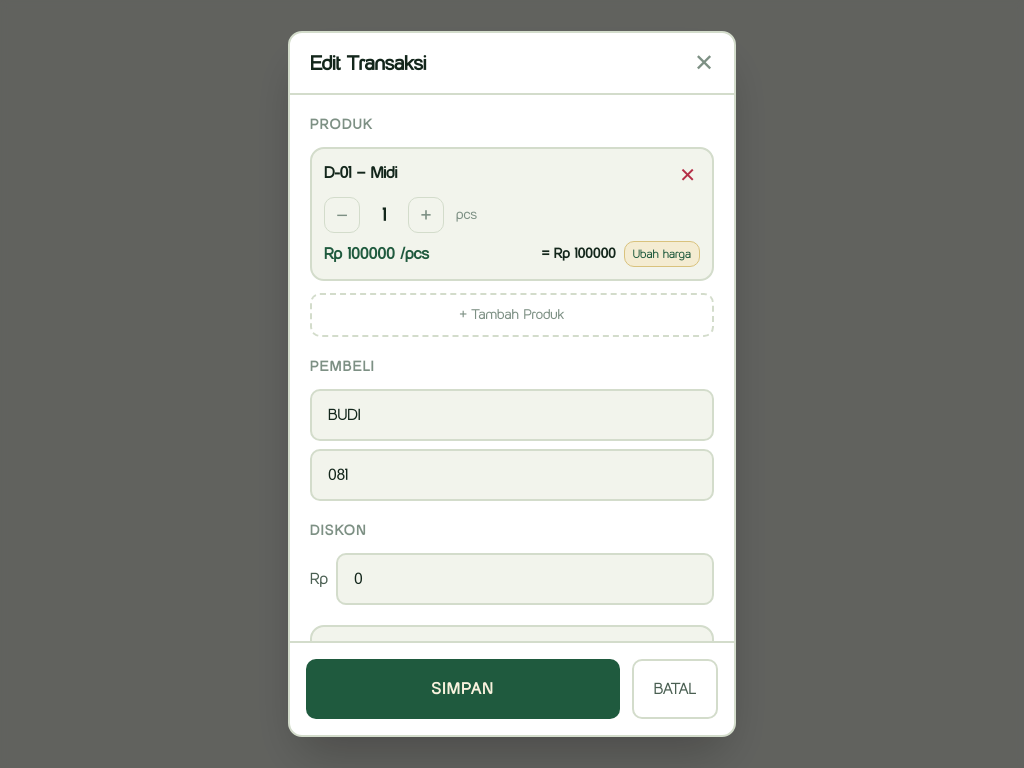
it: EditSaleModal › cancels the confirm dialog without removing anything when Batal clicked
Click the button "−" at (342, 215), box [324,197,360,233]
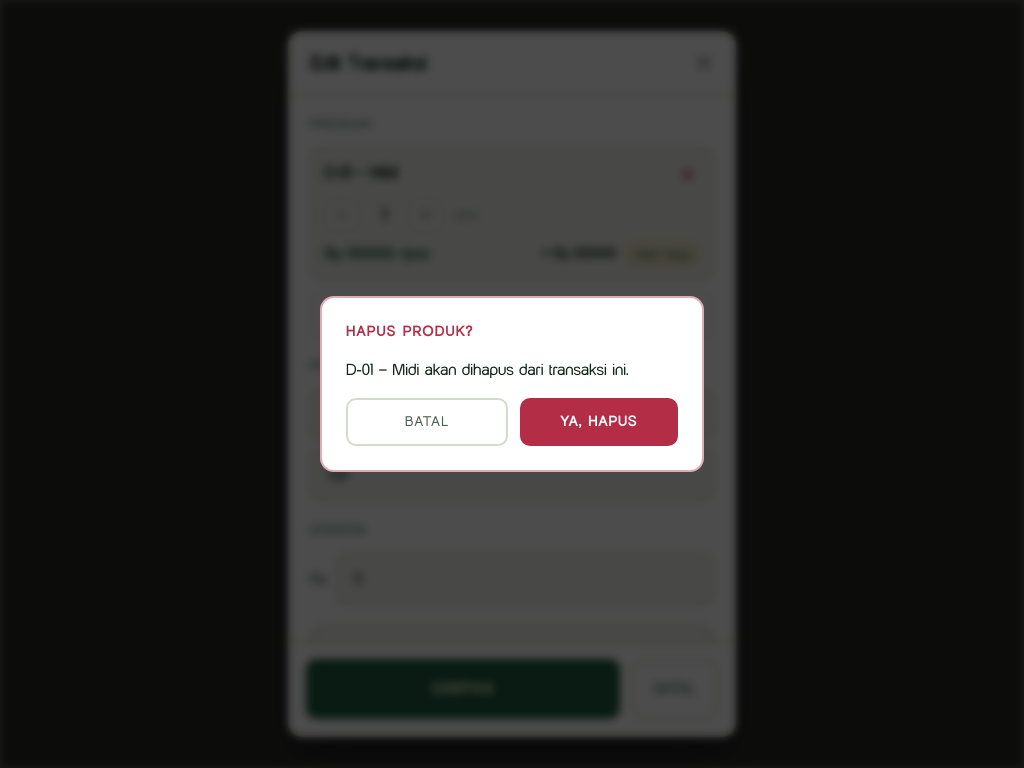
Expected: the text "Hapus Produk?" is shown, [346,323,474,340]
Click the button "Batal" at (427, 422), box [346,398,508,446]
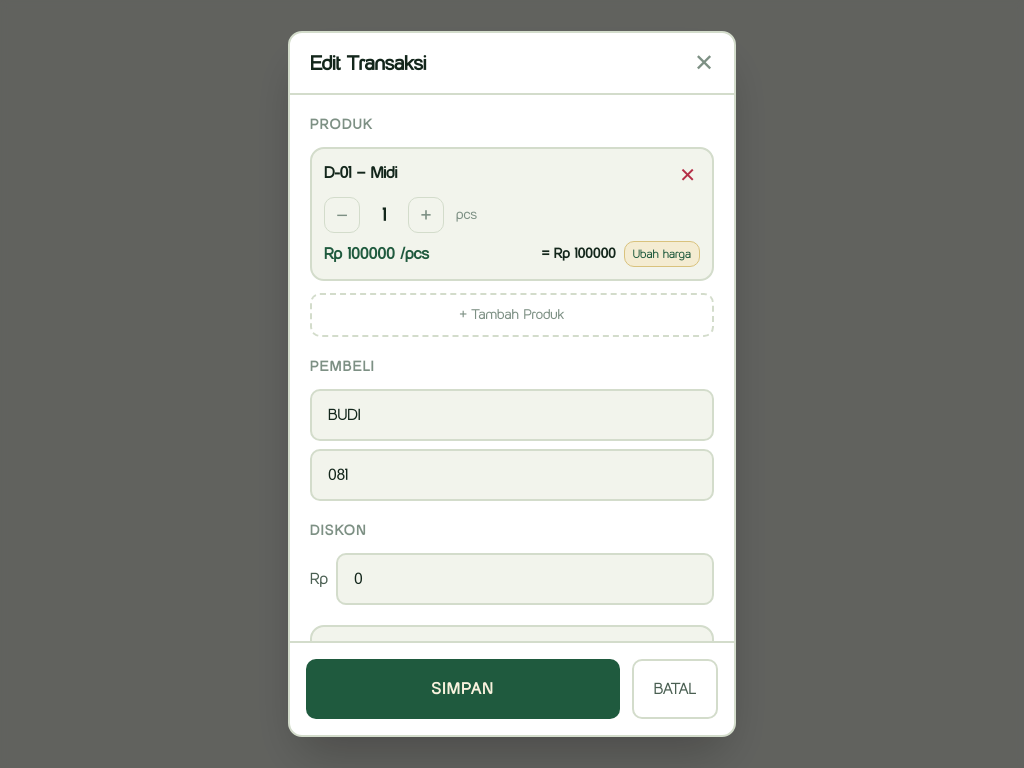
Expected: the text "1" is shown, [382,204,386,226]
Expected: the text "Hapus Produk?" is gone
